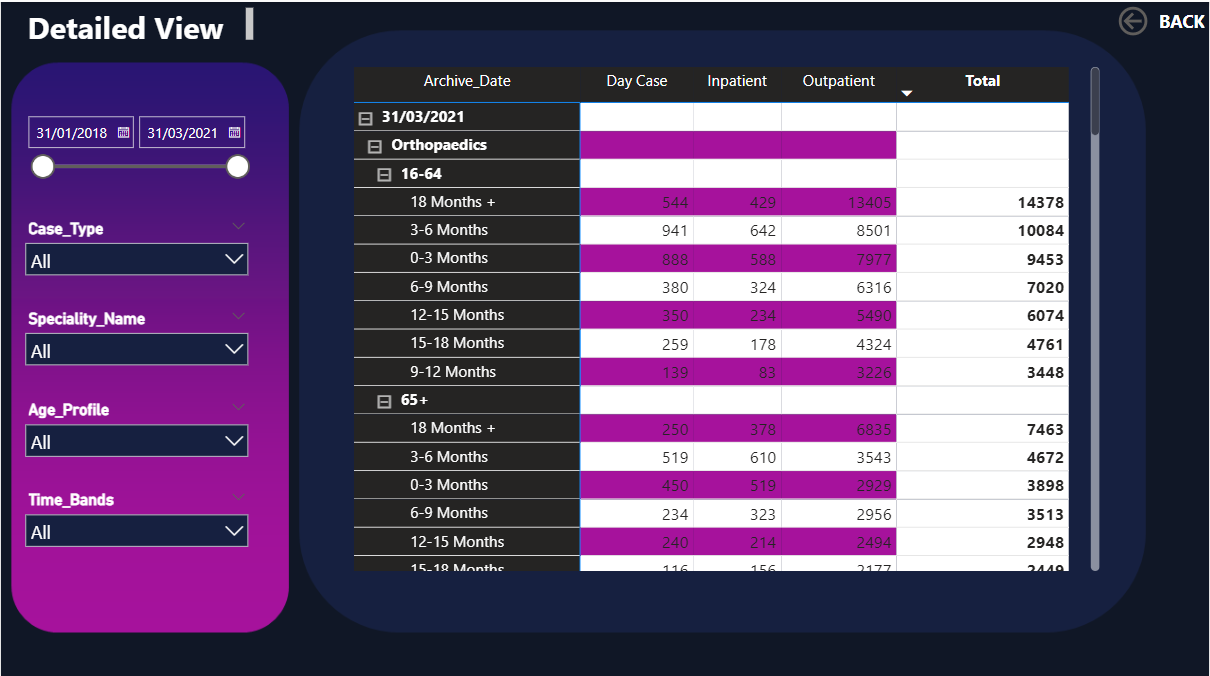

The dashboard page shown, as its layout file describes it:
{"tool":"powerbi","page":{"name":"Detail","canvas":[1280,720],"ordinal":1},"visuals":[{"type":"slicer","fields":{"Values":["AllPatient.Archive_Date"]},"box":[16,112,256,96],"z":0},{"type":"slicer","fields":{"Values":["AllPatient.Case_Type"]},"box":[16,224,256,80],"z":1000},{"type":"slicer","fields":{"Values":["AllPatient.Speciality_Name"]},"box":[16,320,256,80],"z":2000},{"type":"textbox","box":[0,0,272,48],"z":3000},{"type":"slicer","fields":{"Values":["AllPatient.Age_Profile"]},"box":[16,416,256,80],"z":4000},{"type":"slicer","fields":{"Values":["AllPatient.Time_Bands"]},"box":[16,512,256,96],"z":5000},{"type":"pivotTable","fields":{"Rows":["AllPatient.Archive_Date","AllPatient.Speciality_Name","AllPatient.Age_Profile","AllPatient.Time_Bands"],"Columns":["AllPatient.Case_Type"],"Values":["Sum(AllPatient.Total)"]},"box":[368,64,800,544],"z":6000},{"type":"actionButton","box":[1179.3,0,100,40.4],"z":7000}]}

Visuals, with their boxes in screenshot pixels (x1, y1, x2, y2), scaled from the page's 1280x720 canvas onto the 1210x676 screenshot:
slicer - AllPatient.Archive_Date: x1=15, y1=105, x2=257, y2=195
slicer - AllPatient.Case_Type: x1=15, y1=210, x2=257, y2=285
slicer - AllPatient.Speciality_Name: x1=15, y1=300, x2=257, y2=376
textbox: x1=0, y1=0, x2=257, y2=45
slicer - AllPatient.Age_Profile: x1=15, y1=391, x2=257, y2=466
slicer - AllPatient.Time_Bands: x1=15, y1=481, x2=257, y2=571
pivotTable - AllPatient.Archive_Date x AllPatient.Speciality_Name: x1=348, y1=60, x2=1104, y2=571
actionButton: x1=1115, y1=0, x2=1209, y2=38
